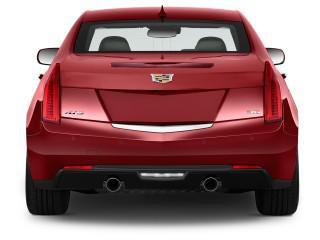cadillac: (145, 69, 177, 87)
